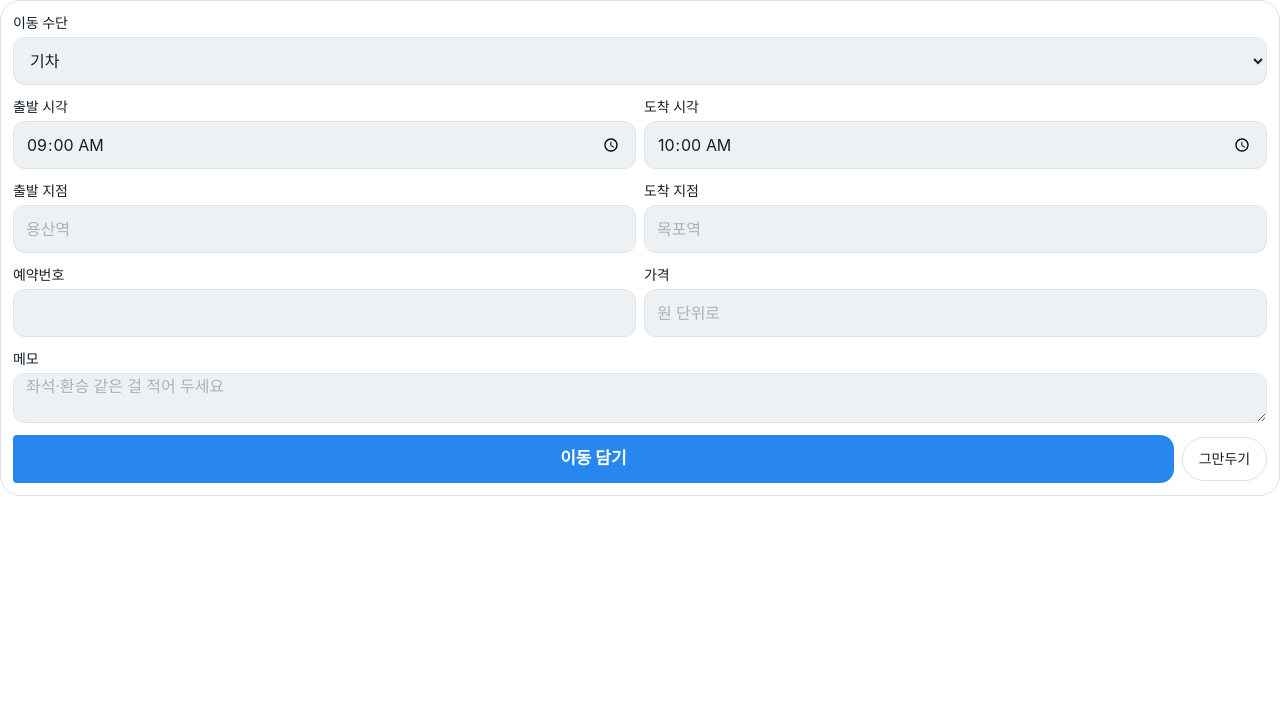
Test case: LegForm — 도착<출발 확인 플로우 (PRD 엣지 / validation/time-reversed) › 확인 전에는 저장하지 않고 다음 날 도착인지 묻는다
Replace the text in the time field labelled "출발 시각" with "23:00" at (324, 145), box [13,121,636,169]
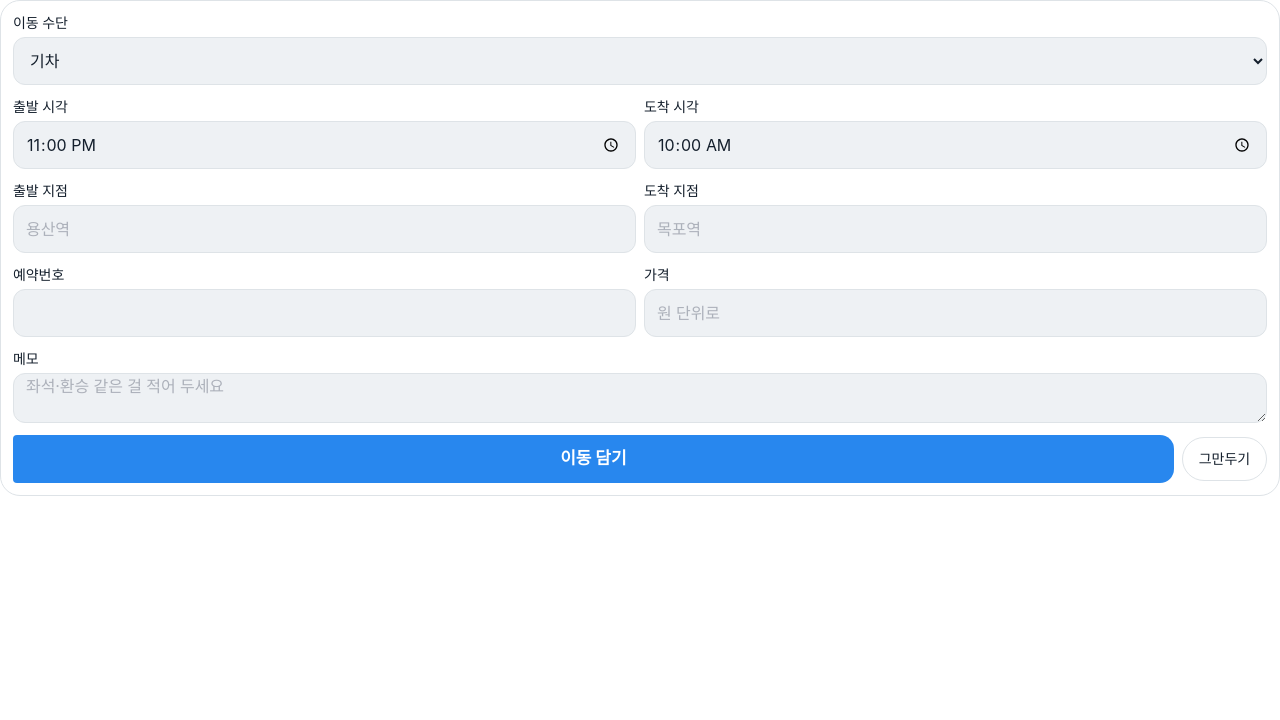
Replace the text in the time field labelled "도착 시각" with "01:10" at (956, 145), box [644,121,1267,169]
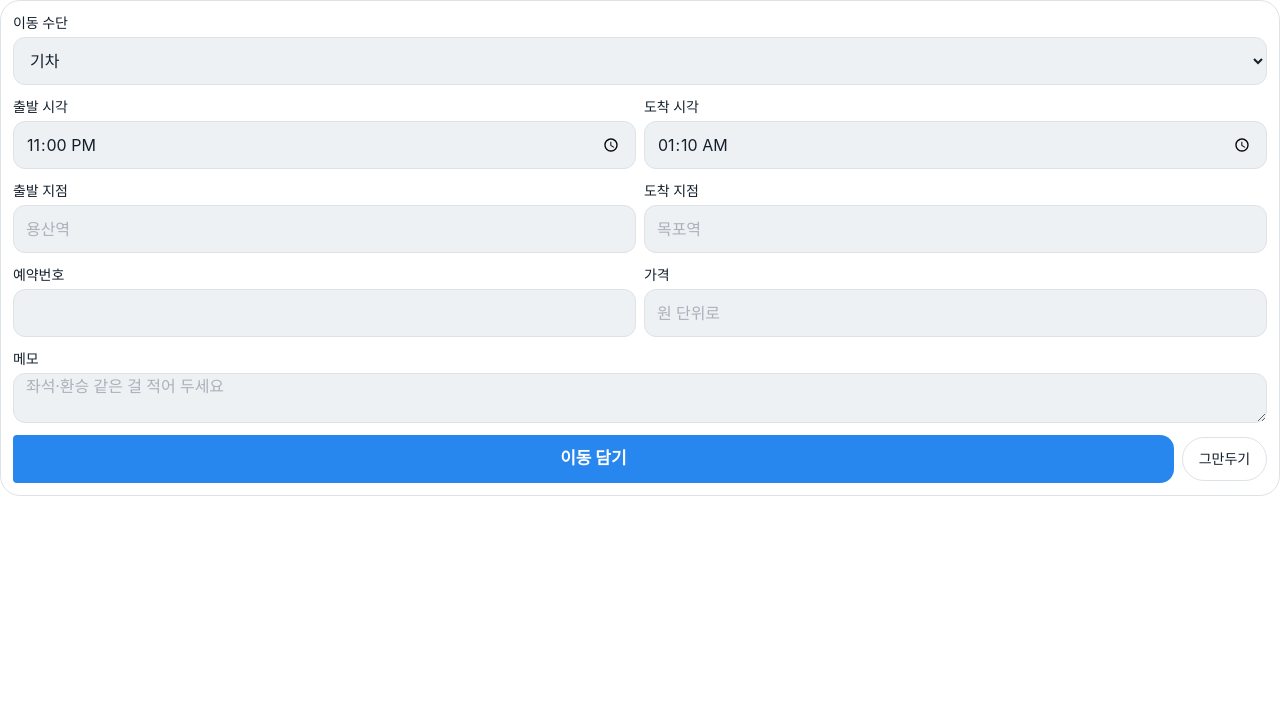
Click the button "이동 담기".
click(593, 459)  # box [13,435,1174,483]
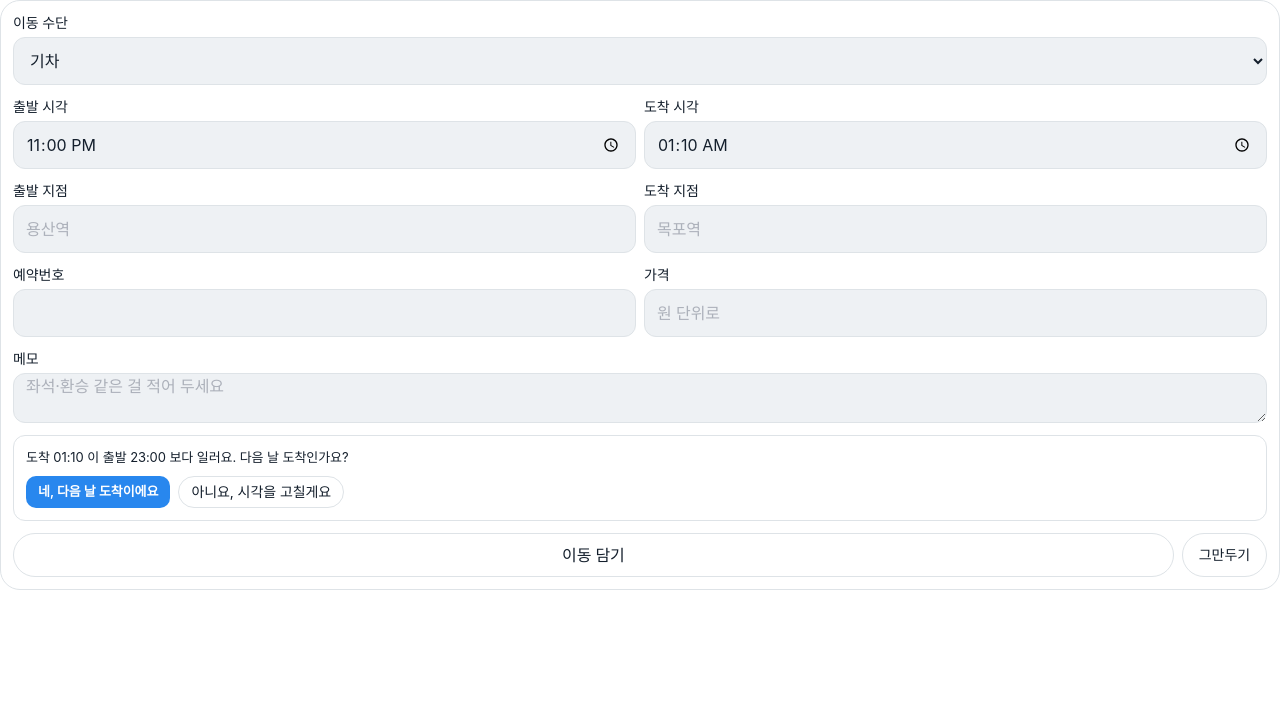
Now the message shows "다음 날 도착인가요?", box [166,449,349,465]
